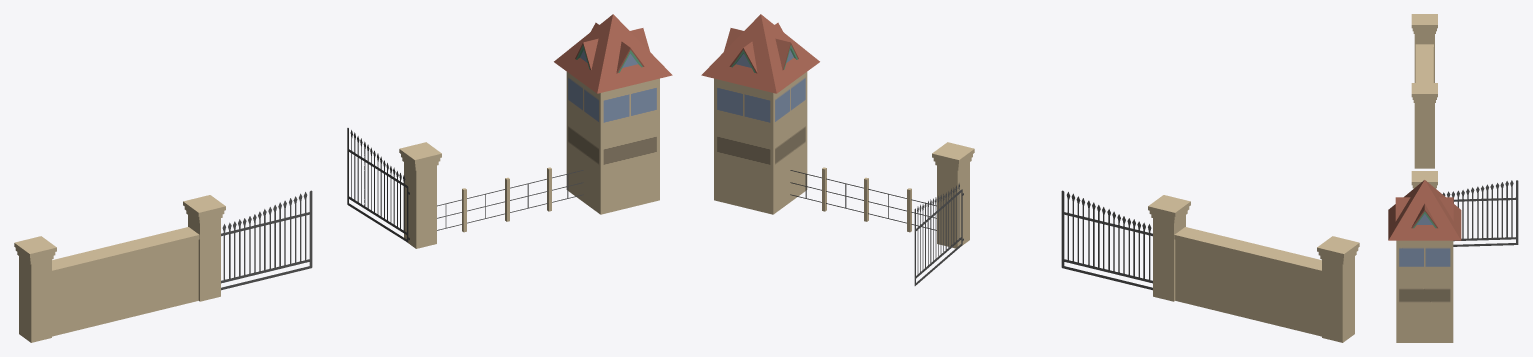
Rendered from Vinicola_Entrada_Muro.fbx.
3 renders of one model, left to right at view 1: azimuth 30°, elevation 25°; view 2: azimuth 150°, elevation 25°; view 3: azimuth 270°, elevation 25°, orthographic. The views are drawn at different scales.
Visible parts, largest first — view 1: Vinicola_Entrada_Muro; view 2: Vinicola_Entrada_Muro; view 3: Vinicola_Entrada_Muro.
Boxes of the visible parts, x1=… form: Vinicola_Entrada_Muro: x1=14, y1=14, x2=672, y2=342; Vinicola_Entrada_Muro: x1=701, y1=14, x2=1359, y2=342; Vinicola_Entrada_Muro: x1=1388, y1=14, x2=1518, y2=342.
Bounding box in the file's own units: 1674 × 461 × 360.
2 materials, 2 textured.
